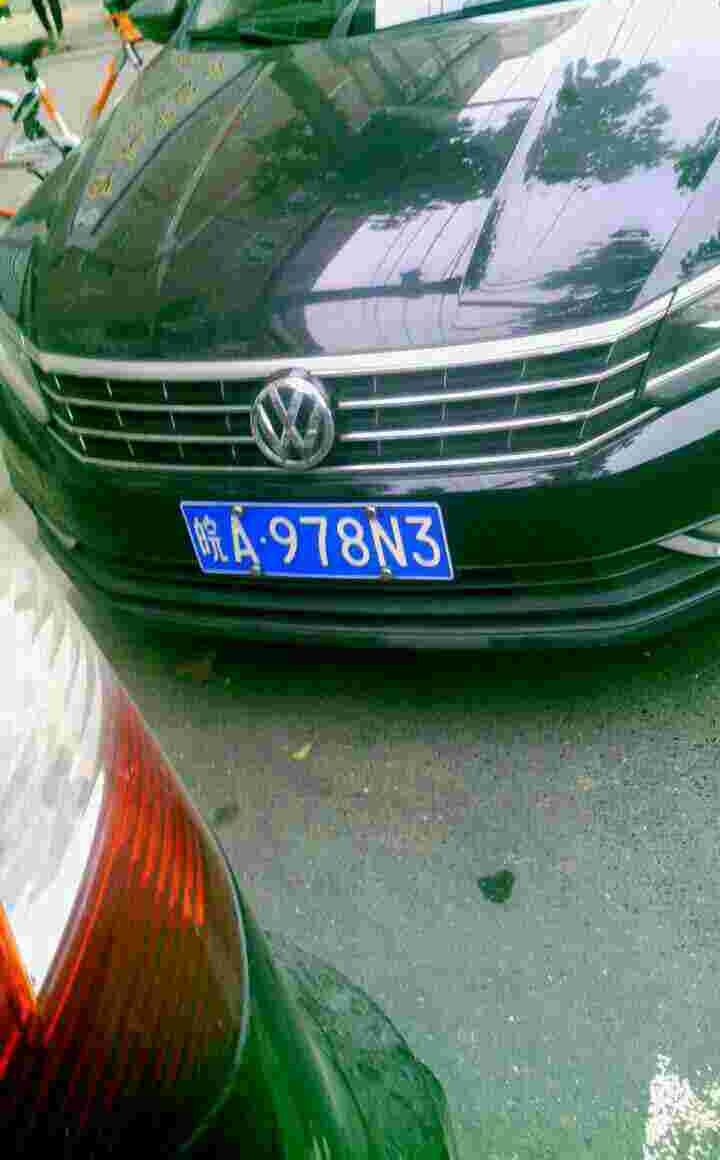license_plate: (189, 505, 454, 586)
